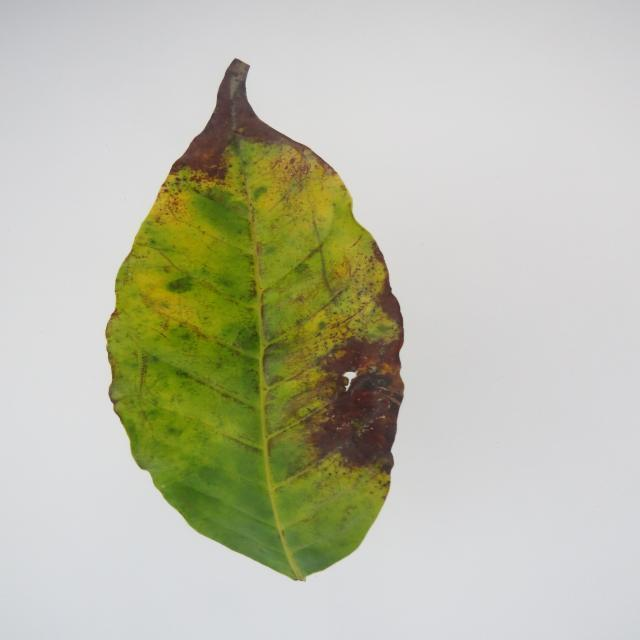DeficienciaNutricional-Potasio: (107, 60, 403, 580)
